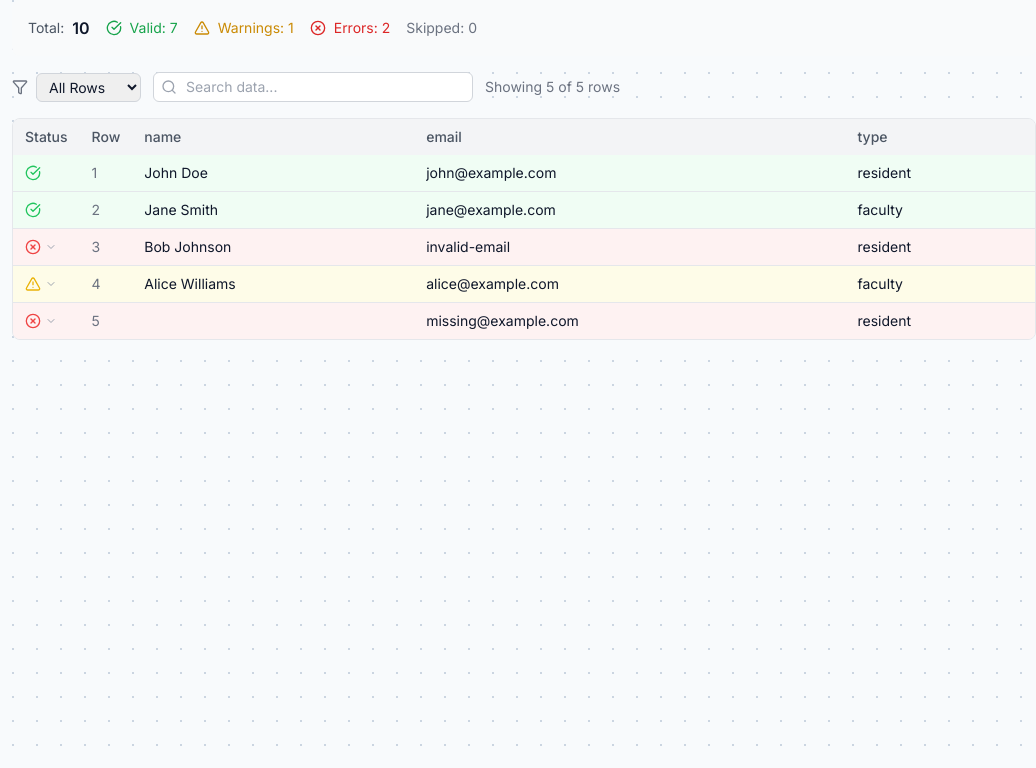
it: ImportPreview › Row Expansion › should expand row to show errors when clicked
Expected: the text "Bob Johnson" is shown, [144,238,231,255]
Click the text "Bob Johnson".
click(524, 247)  # box [13,228,1035,266]
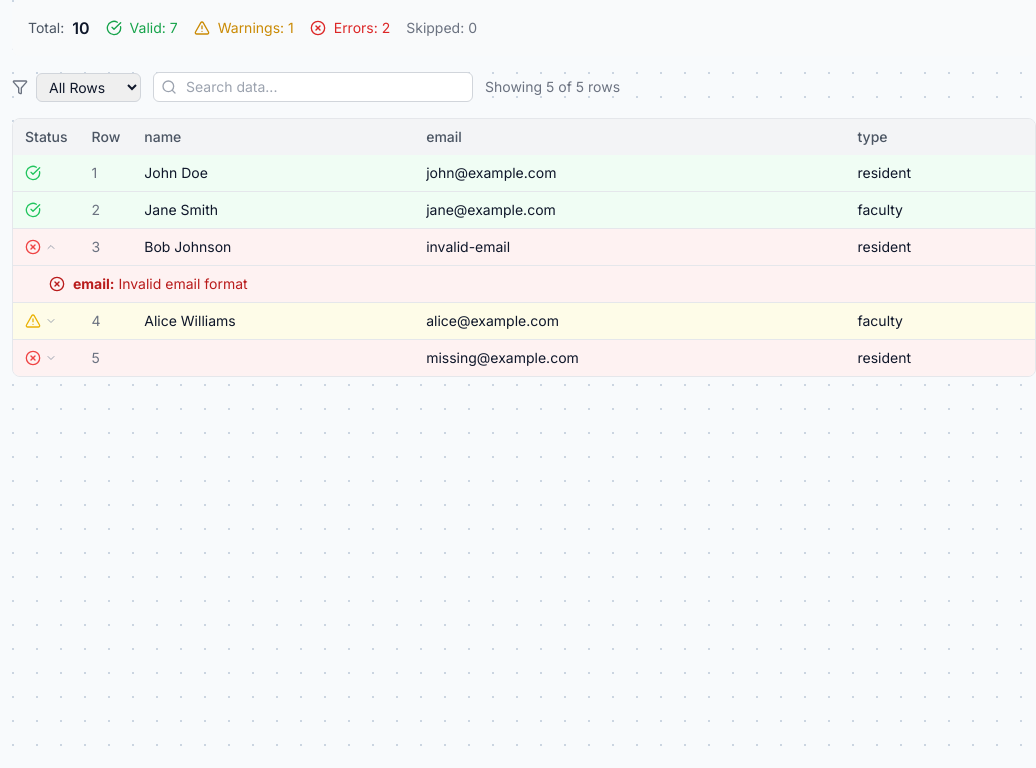
Expected: the text "email: Invalid email format" is shown, [73,274,248,294]
